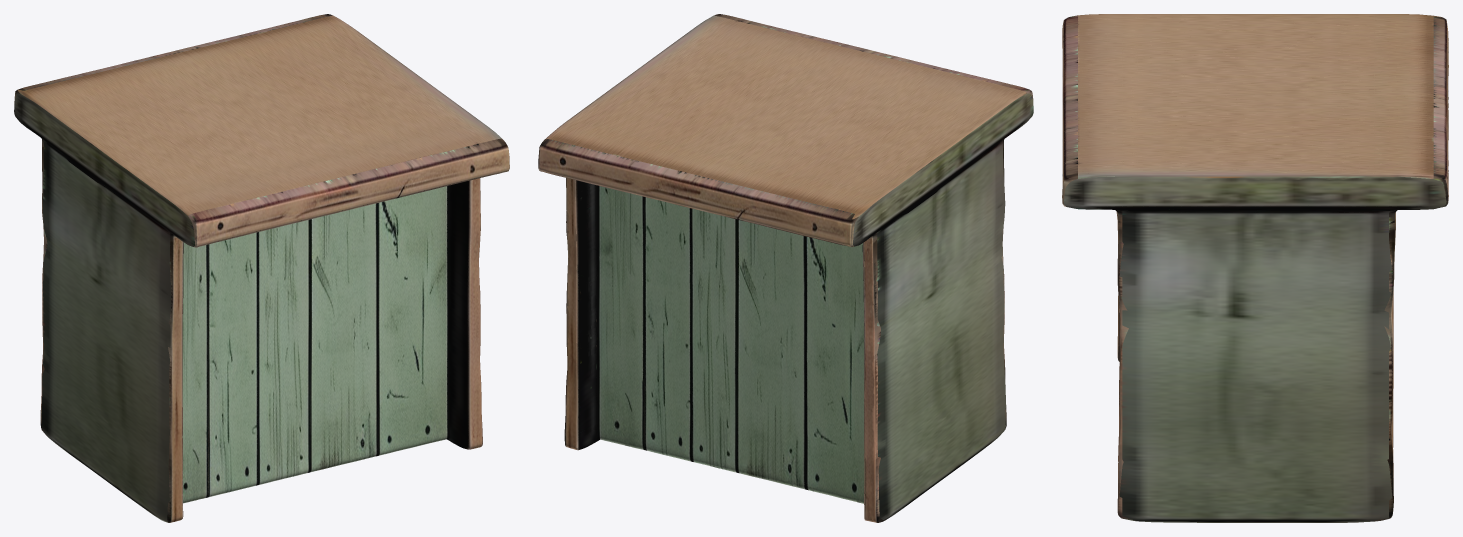
Rendered from wall-clapboard-half.glb.
3 views of the same model, side by side, from view 1: azimuth 30°, elevation 25°; view 2: azimuth 150°, elevation 25°; view 3: azimuth 270°, elevation 25° (orthographic). The views are drawn at different scales.
Visible parts, largest first — view 1: tmpffky3n85.ply; view 2: tmpffky3n85.ply; view 3: tmpffky3n85.ply.
Part boxes in pixels (x1=…): tmpffky3n85.ply: x1=14, y1=14, x2=509, y2=522; tmpffky3n85.ply: x1=538, y1=14, x2=1033, y2=522; tmpffky3n85.ply: x1=1062, y1=14, x2=1448, y2=522.
Bounding box in the file's own units: 1 × 1 × 1.
Materials: 1 (1 with a texture image).
